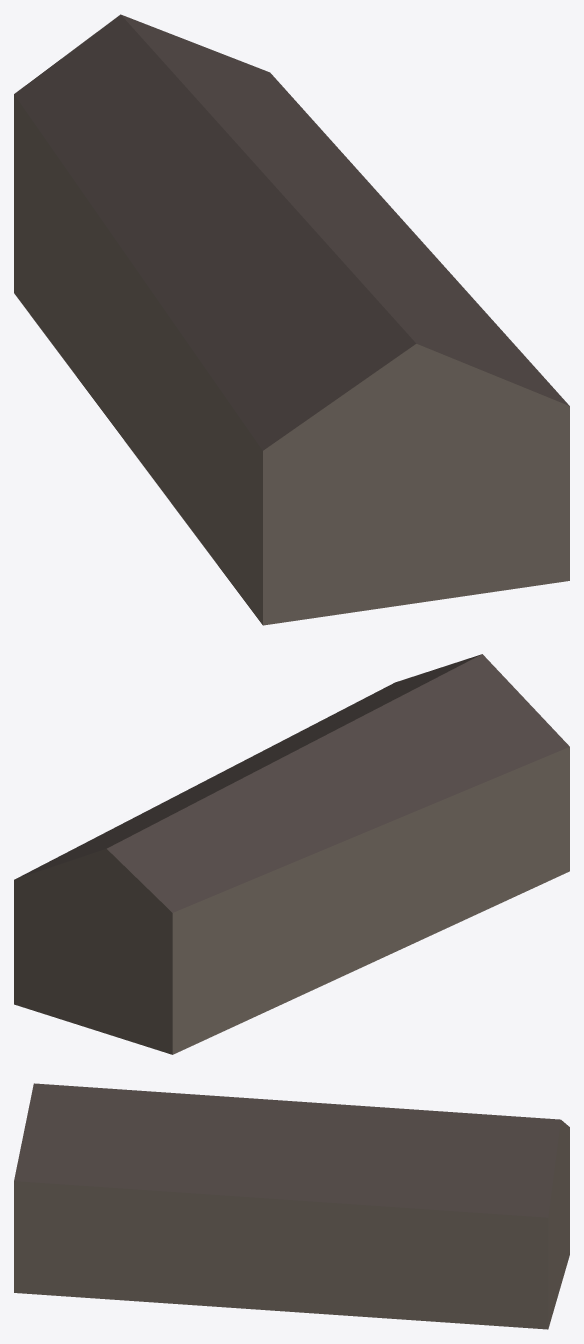
3 views of the same model, one above another, from view 1: azimuth 30°, elevation 25°; view 2: azimuth 150°, elevation 25°; view 3: azimuth 270°, elevation 25° (orthographic). The views are drawn at different scales.
Parts seen in each view (by area): view 1: HP-w1515071130; view 2: HP-w1515071130; view 3: HP-w1515071130.
Part boxes in pixels (bbox=[...]): HP-w1515071130: bbox=[14, 14, 569, 625]; HP-w1515071130: bbox=[14, 654, 569, 1054]; HP-w1515071130: bbox=[14, 1083, 569, 1329].
Size of the model in its own units: 14.14 by 8.92 by 27.02.
